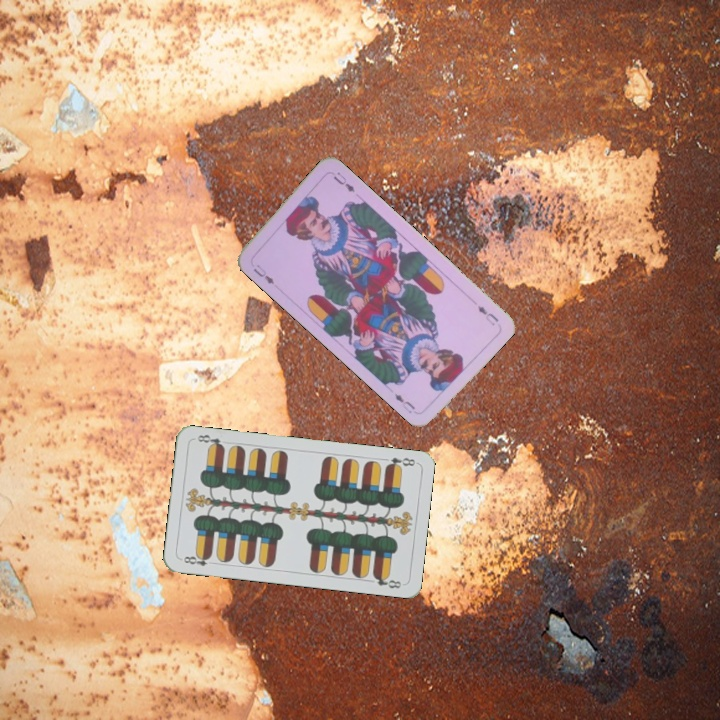E8: (177, 550, 213, 569), (382, 453, 418, 472)
EU: (249, 261, 277, 287), (473, 302, 501, 328)
